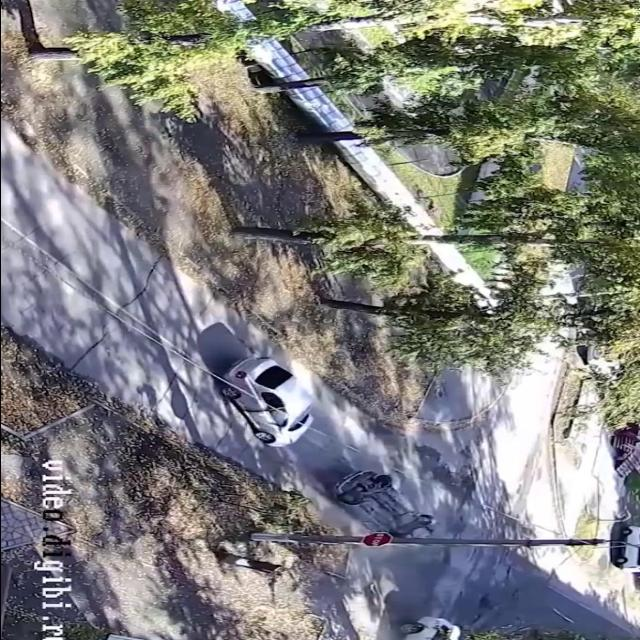accident: (206, 350, 446, 546)
